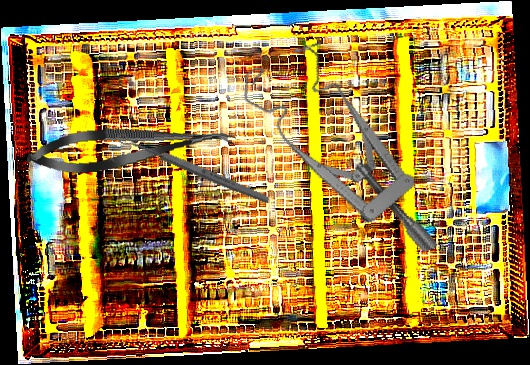Micro Scissor: (24, 115, 238, 179)
Speculum: (233, 24, 442, 291)
Surgical Spoon: (115, 131, 272, 206)
